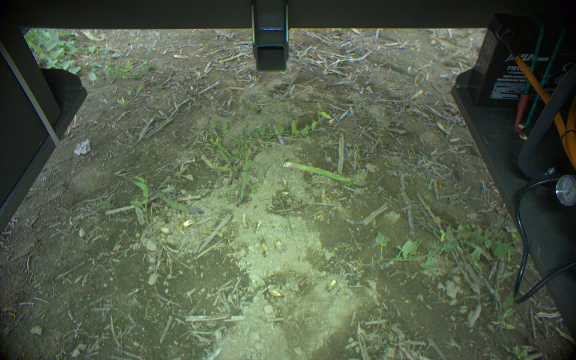aspa: (283, 158, 362, 188), (145, 187, 201, 214), (235, 128, 251, 207), (268, 118, 285, 145)
